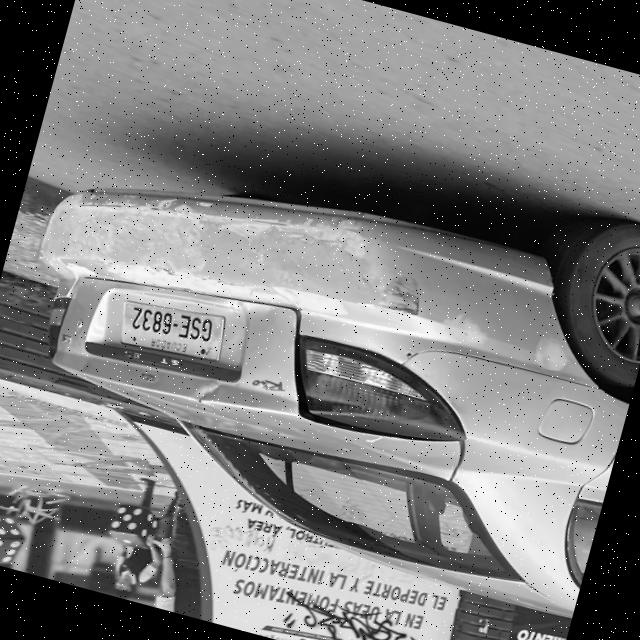Placa: (120, 301, 223, 359)
